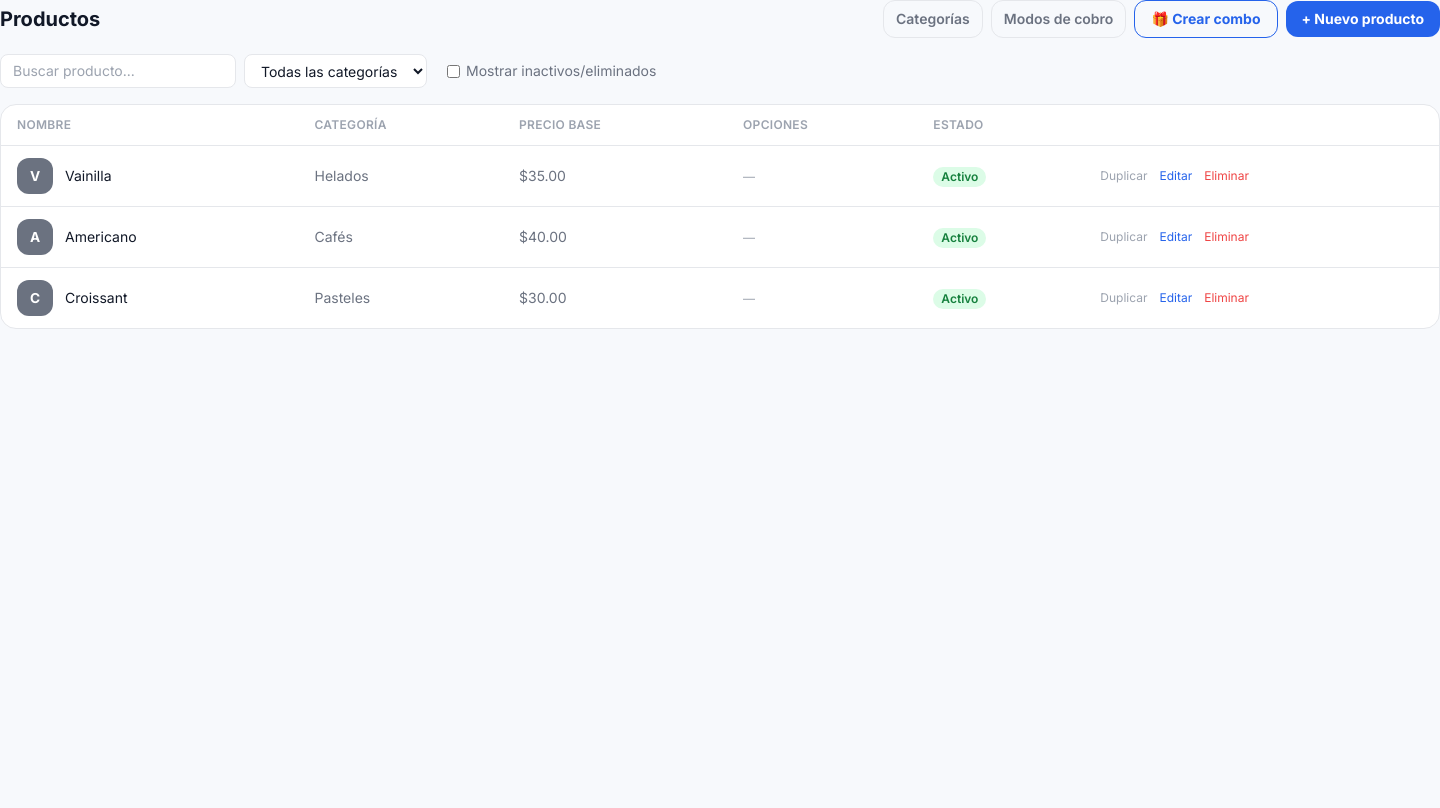
ProductsPage › shows the flavor catalog manager for multiple PRESENTATION categories at once without hanging
Click the button "Modos de cobro".
click(1059, 19)  # box [991,0,1126,38]
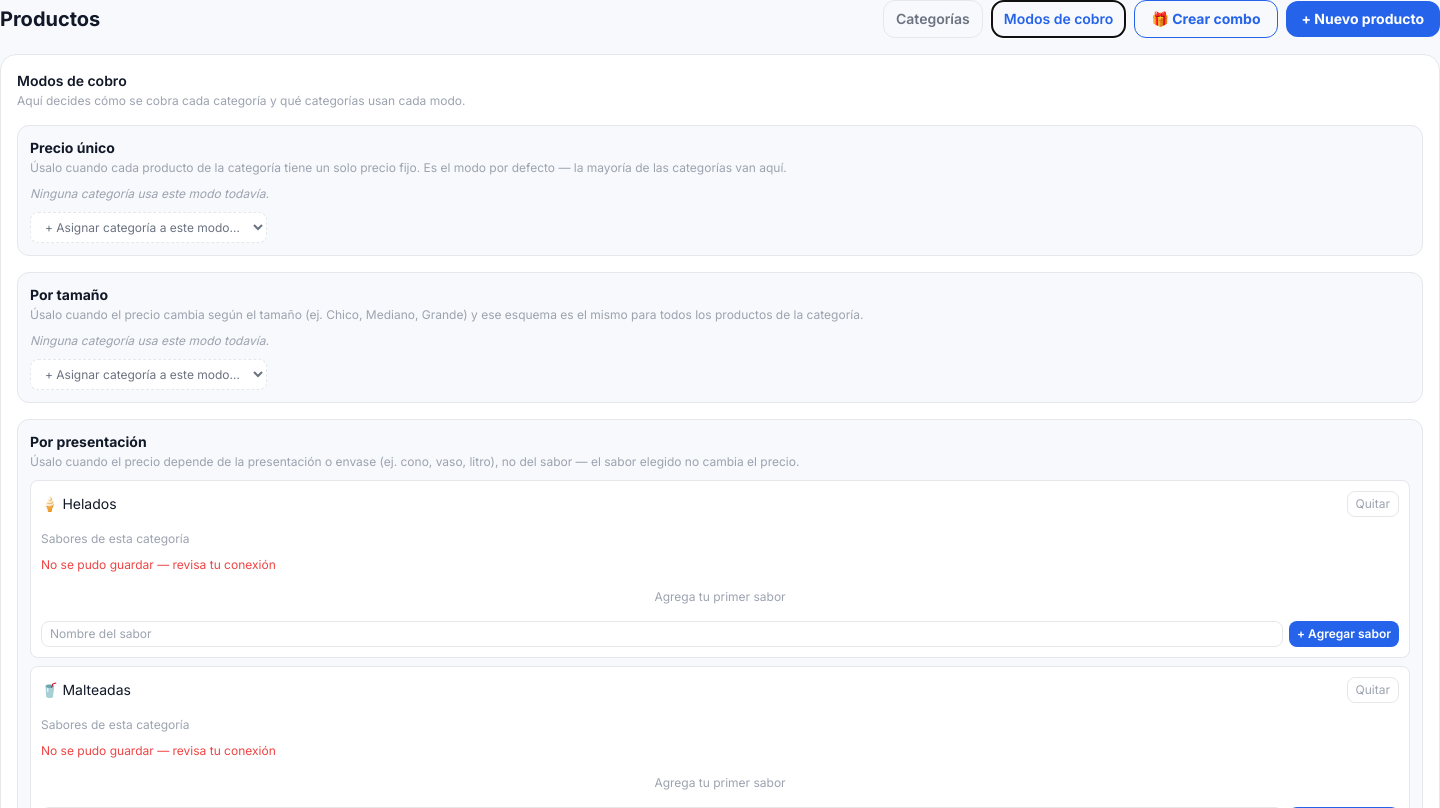
Result: the text "Sabores de esta categoría" is shown 2 times at [41,531,190,546]; [41,717,190,732]
